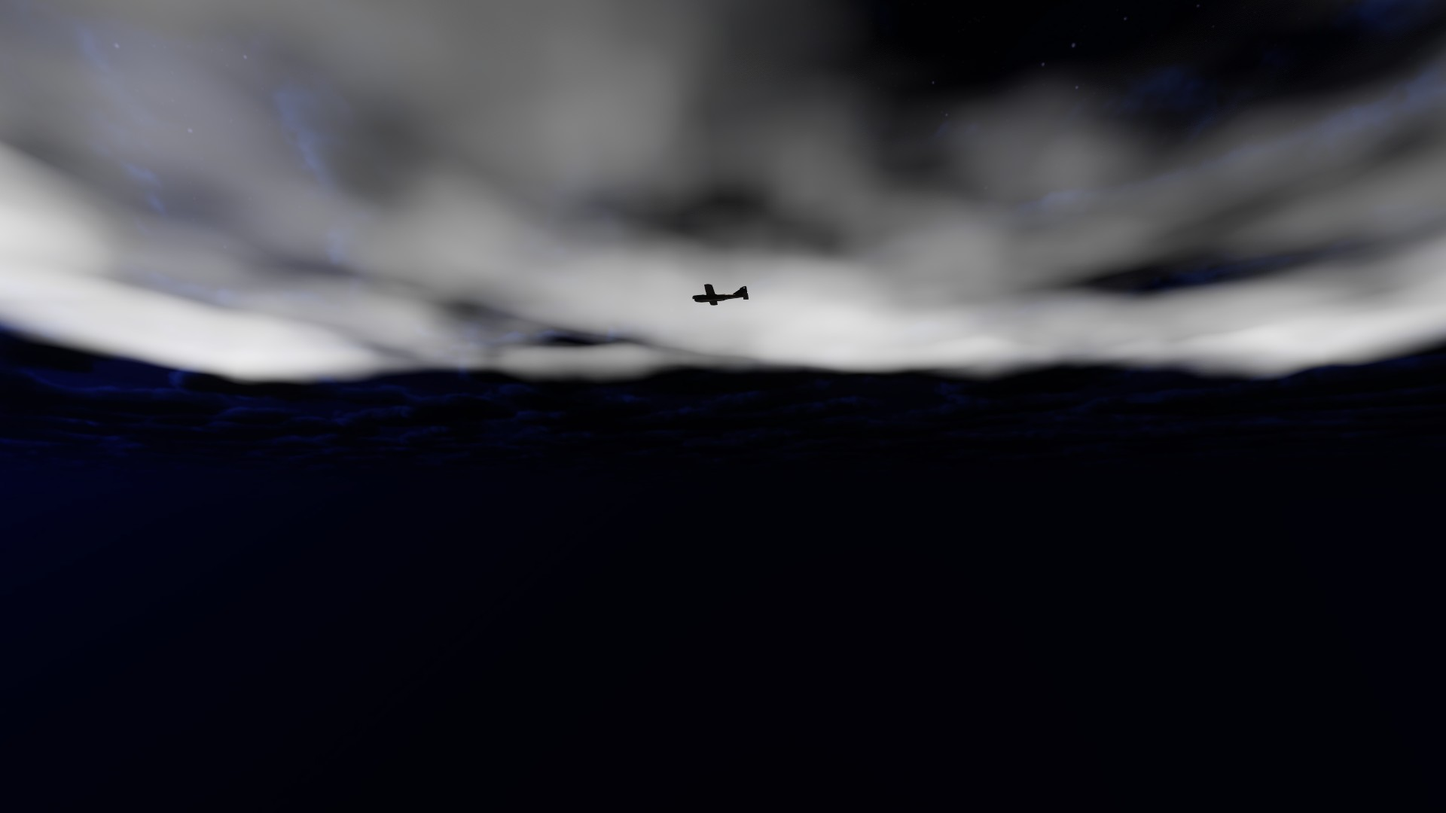drone_other: (692, 284, 749, 306)
